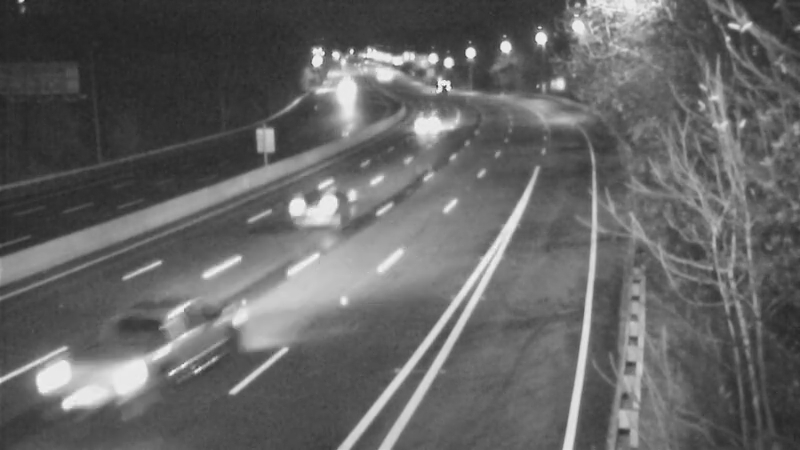vehicle: (60, 296, 170, 406), (279, 173, 359, 253), (409, 60, 459, 110), (388, 106, 438, 156), (318, 71, 368, 121)
